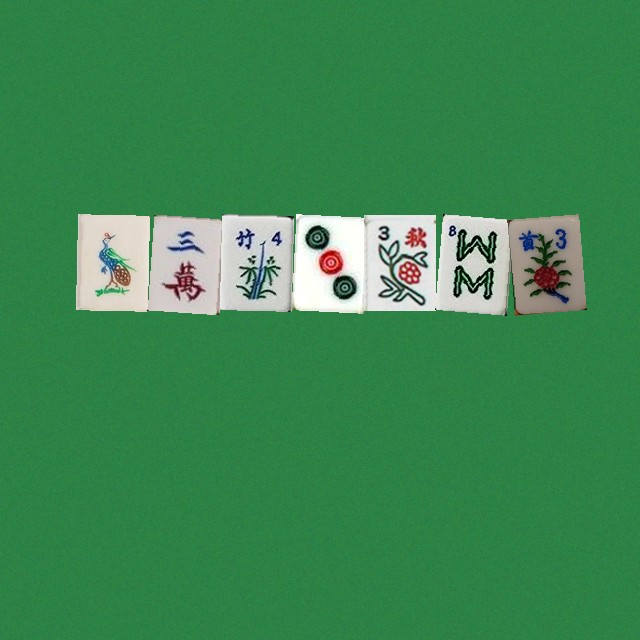tile: (75, 214, 147, 310), (147, 214, 219, 310), (219, 214, 291, 310), (291, 214, 363, 310), (363, 214, 435, 310), (435, 214, 507, 310), (507, 214, 579, 310)
